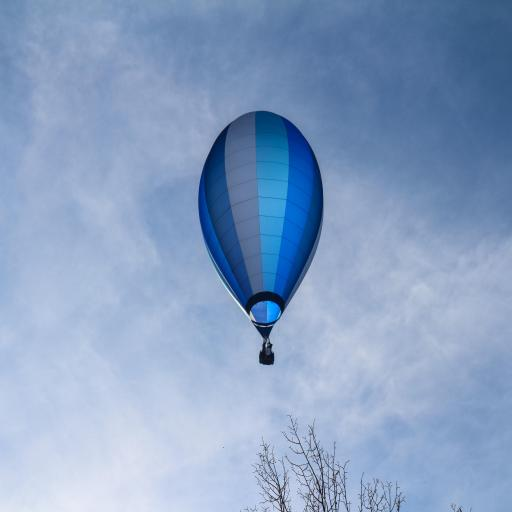hot air ballon: (200, 111, 324, 367)
